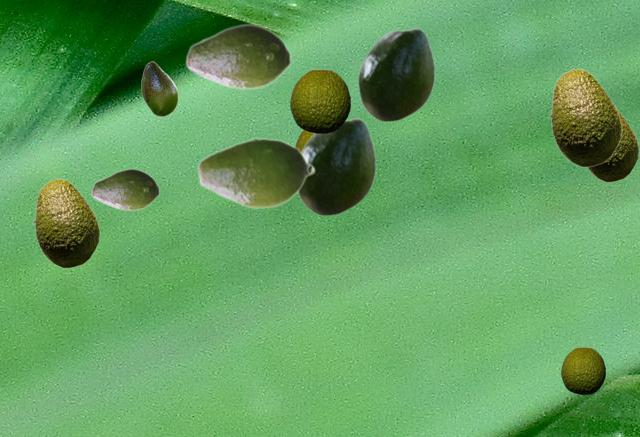avocado: (196, 136, 315, 209), (298, 117, 375, 215), (357, 27, 434, 121), (548, 68, 621, 166), (185, 23, 291, 89), (32, 178, 99, 267), (586, 109, 638, 181), (290, 69, 349, 132), (91, 168, 159, 210), (561, 347, 604, 393), (141, 61, 177, 115), (295, 130, 312, 148)
